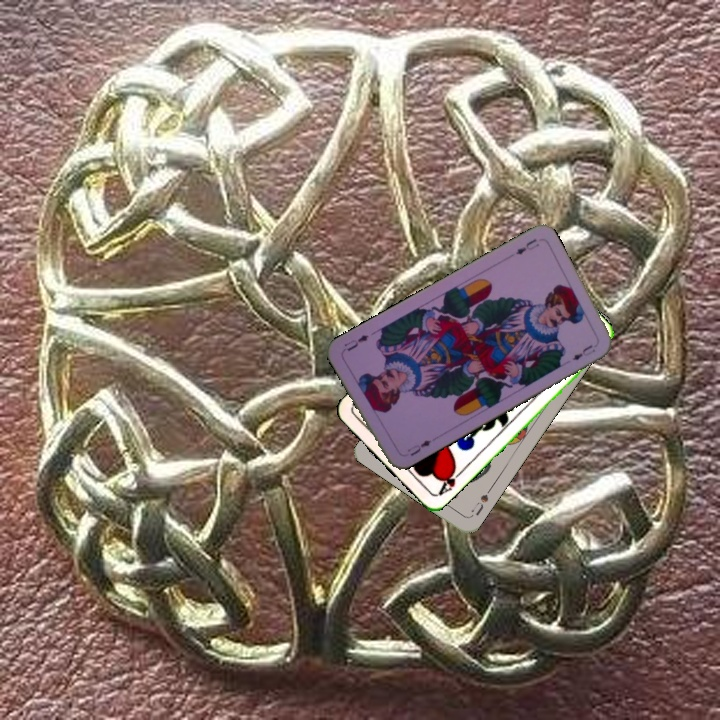EU: (403, 436, 434, 459), (511, 234, 541, 257)
HA: (433, 463, 466, 498)
SU: (467, 484, 494, 518)
